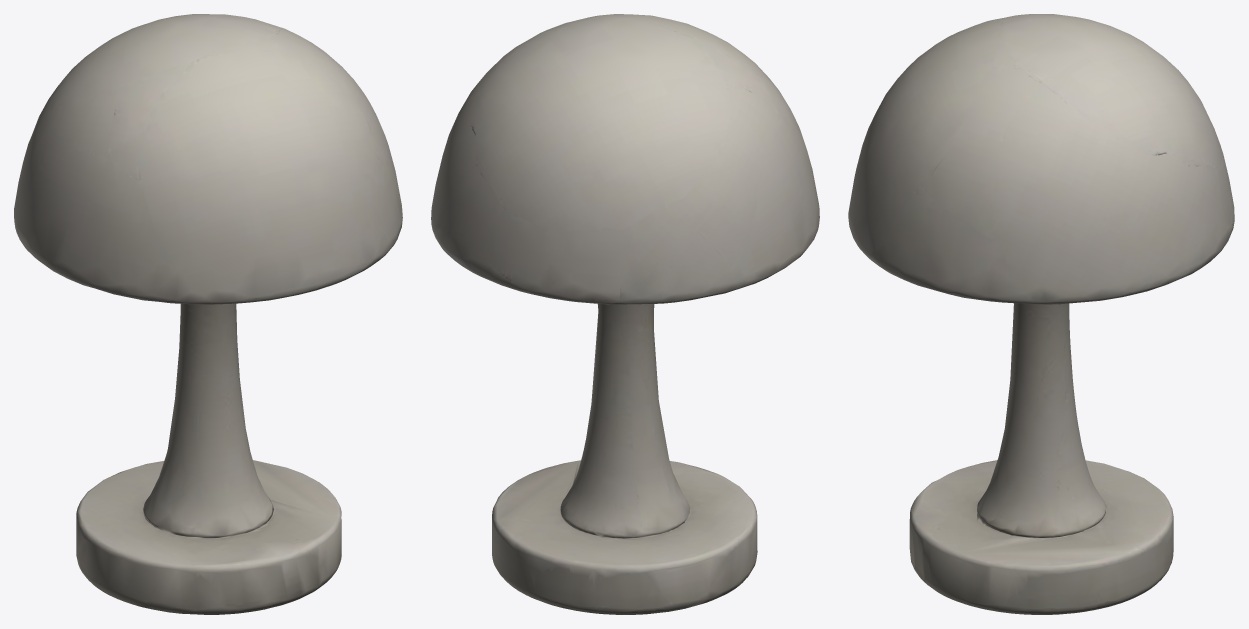
Rendered from lamp-mushroom-lite.glb.
3 views of the same model, side by side, from view 1: azimuth 30°, elevation 25°; view 2: azimuth 150°, elevation 25°; view 3: azimuth 270°, elevation 25° (orthographic).
Parts seen in each view (by area): view 1: node_0; view 2: node_0; view 3: node_0.
Part boxes in pixels (left/top/right/bottom): node_0: left=14, top=14, right=402, bottom=614; node_0: left=431, top=14, right=819, bottom=614; node_0: left=848, top=14, right=1234, bottom=614.
Bounding box in the file's own units: 0.7289 × 1.1 × 0.7278.
Materials: 1 (1 with a texture image).
